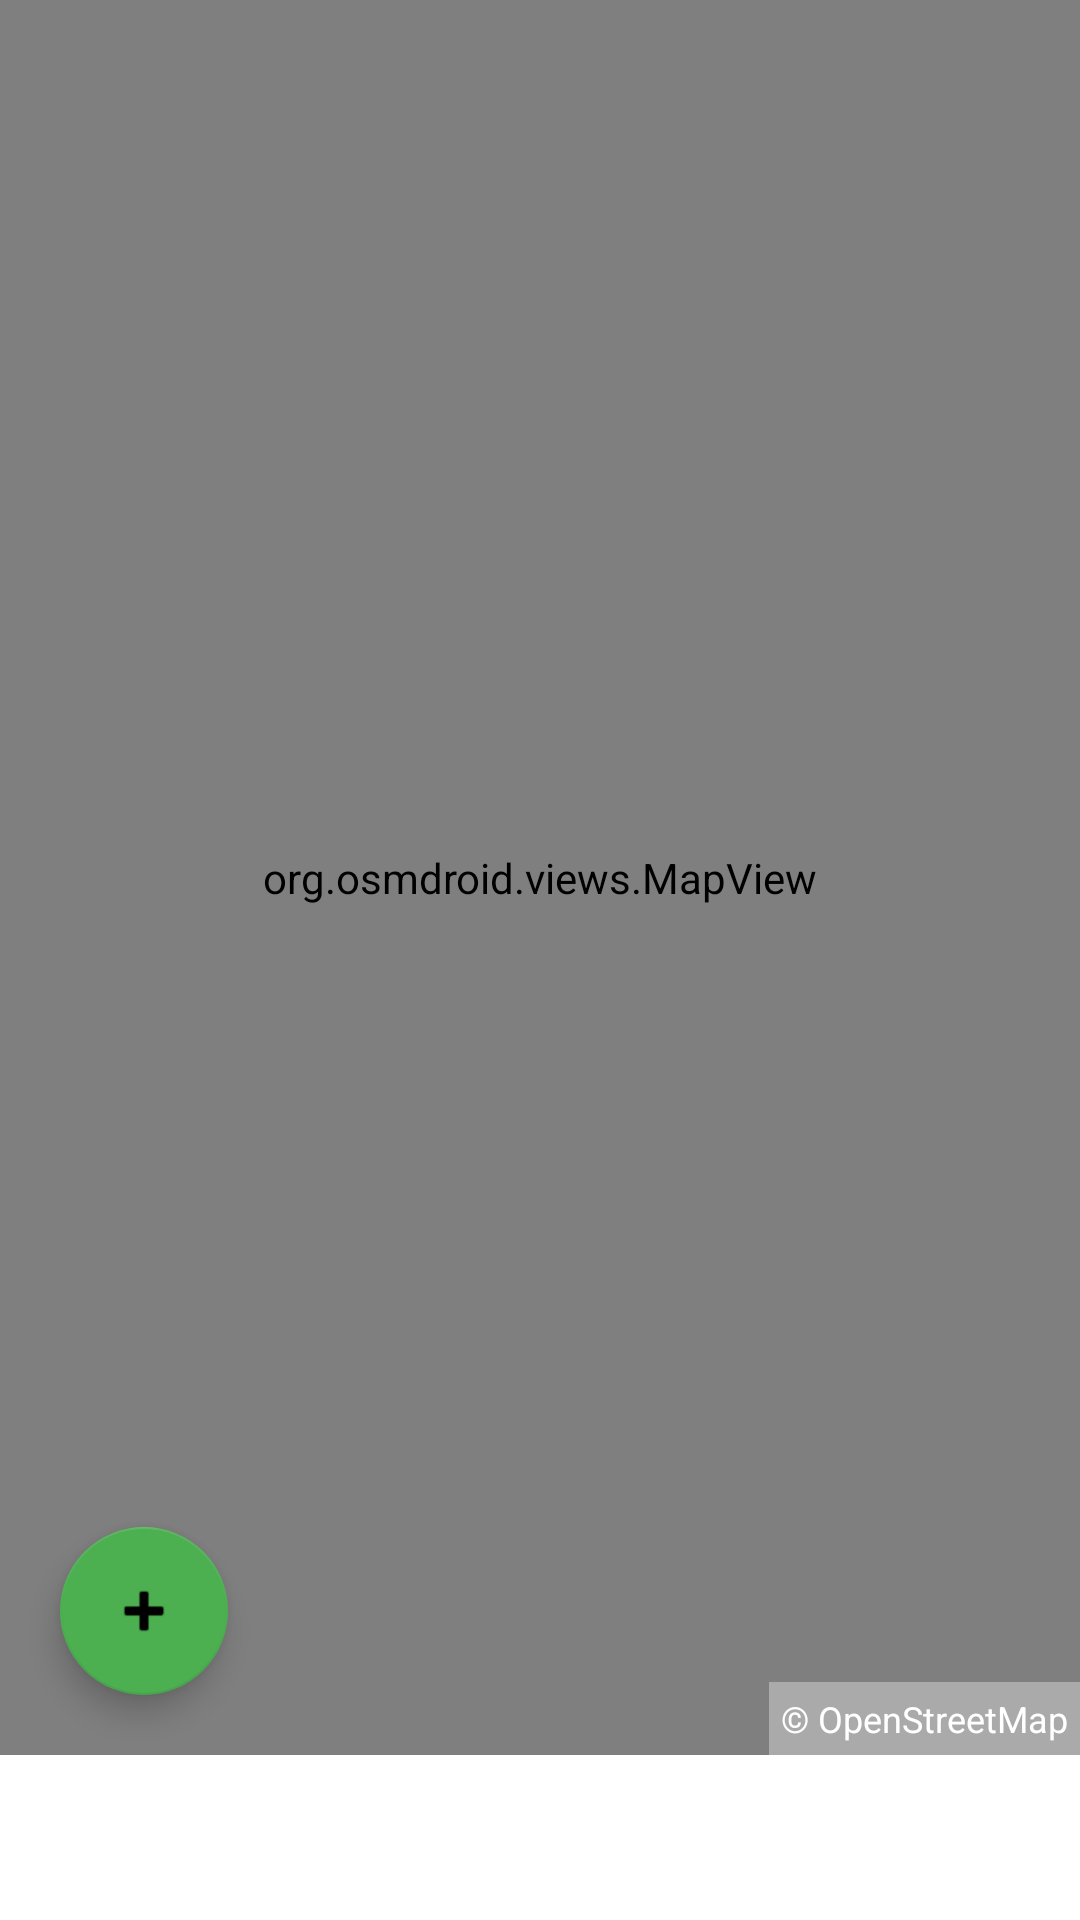

Icons on this 1080 x 1920 Android screen, each with its box as (x1, y1, x2, y2):
add: (60, 1527, 228, 1695)
